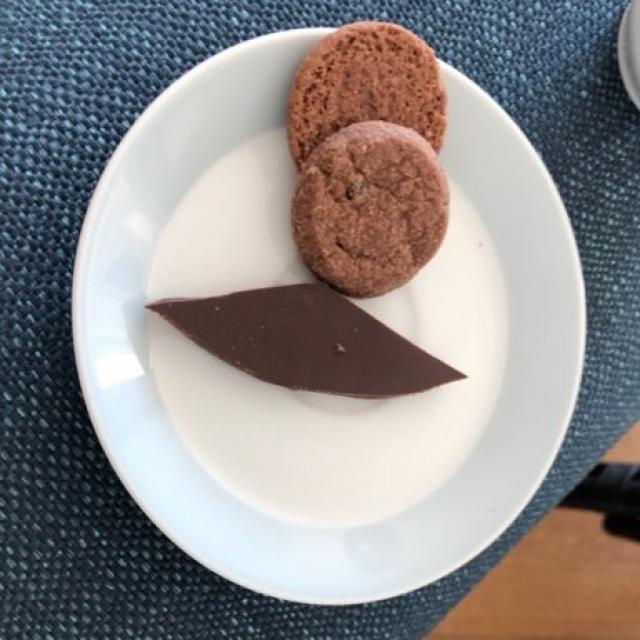chocolate: (163, 275, 461, 394)
cookies: (296, 24, 448, 295)
